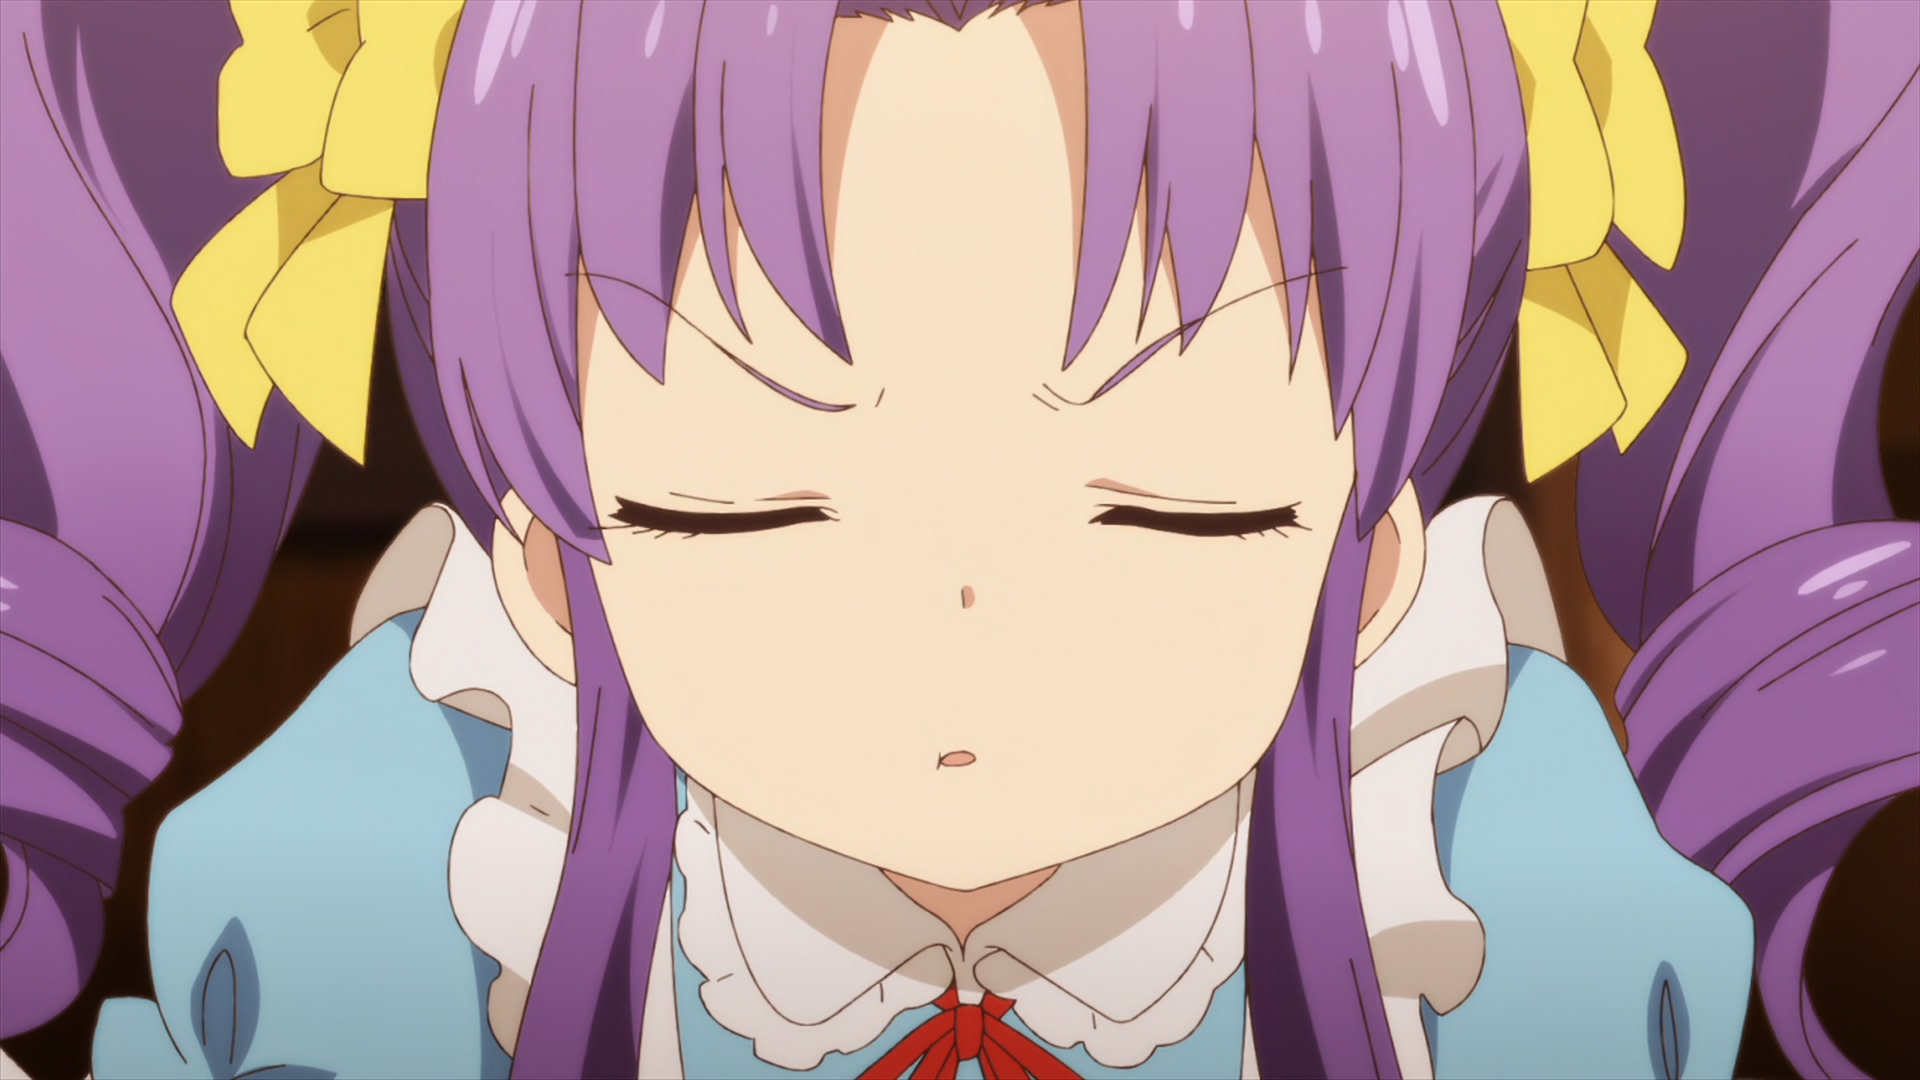阿菊: (1, 1, 1920, 1080)
